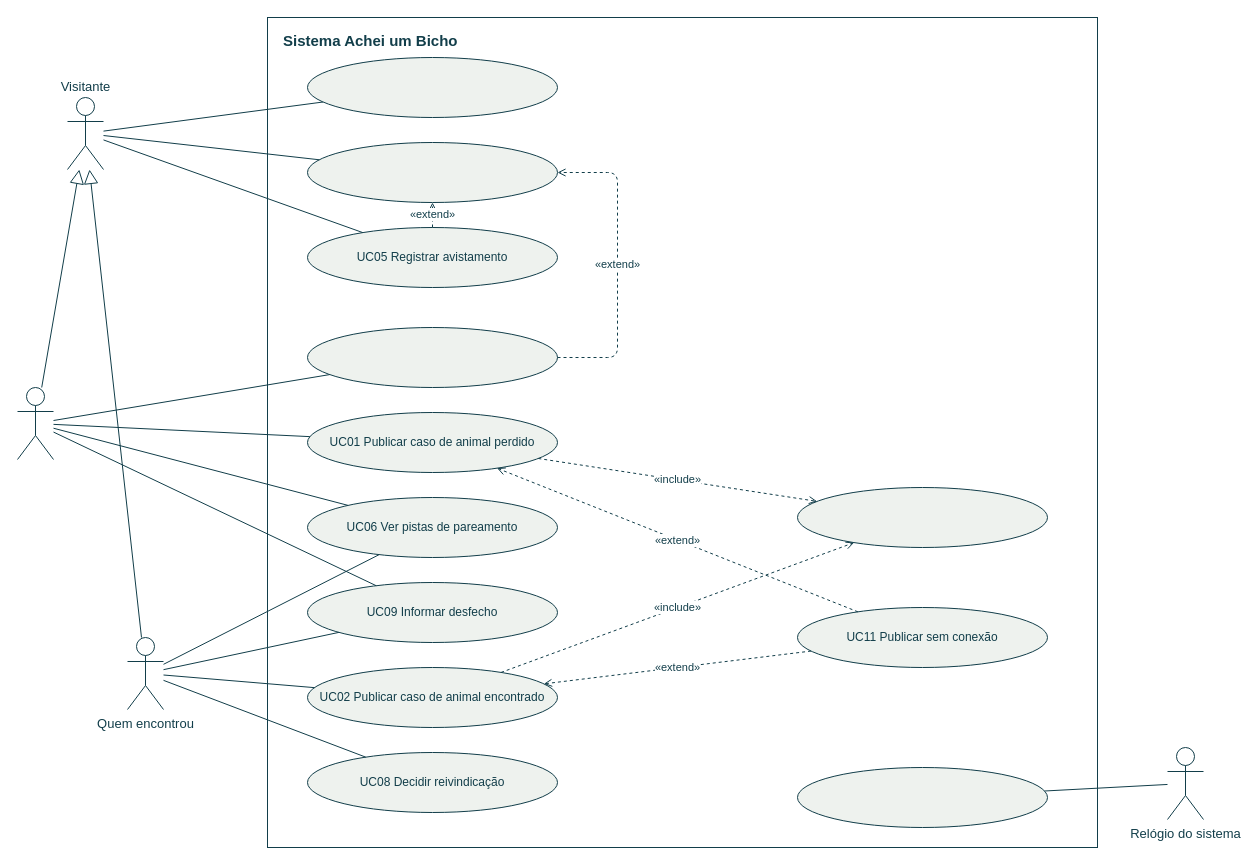
Image size: 1258x865. Some labels were removed from this diagram. The centre of each missing label's shape, as x and y in pixels:
"Tutor" belongs at [35,423].
"UC03 Consultar casos perto de mim" belongs at [432,87].
"UC04 Ver caso aberto" belongs at [432,172].
"UC07 Reivindicar animal" belongs at [432,357].
"UC10 Cadastrar perguntas de verificação" belongs at [922,517].
"UC12 Expirar caso parado" belongs at [922,797].
